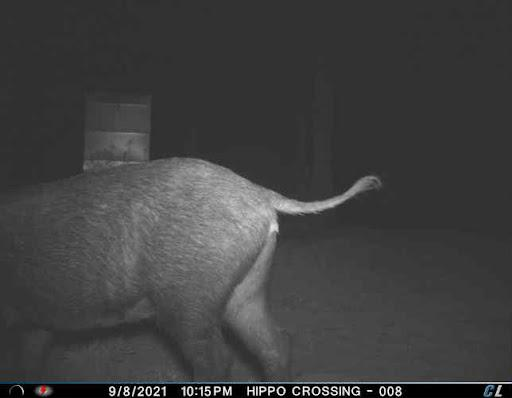Hog: (2, 149, 383, 381)
